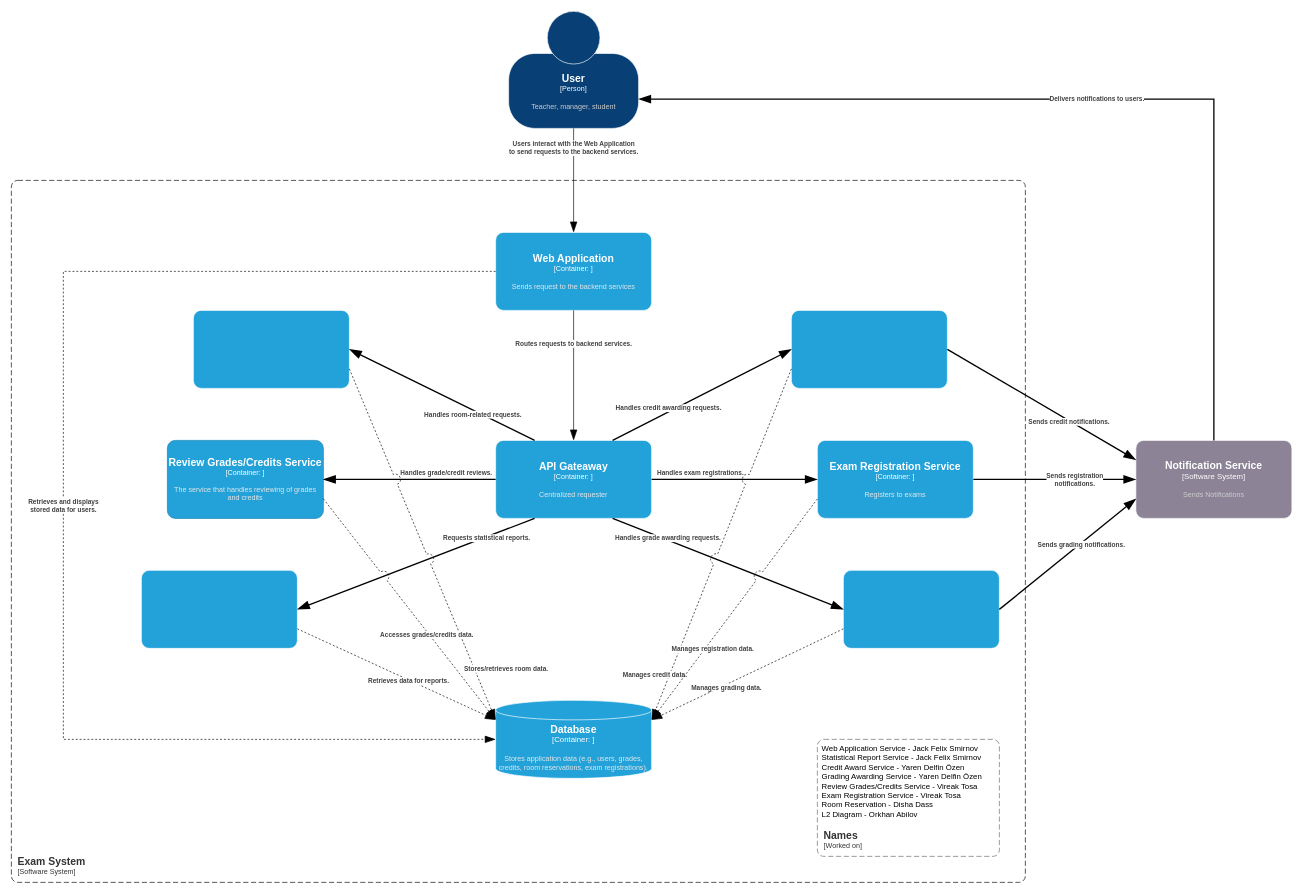
The diagram is 1303 pixels wide and 894 high, and some of its shapes have lost their labels. The box of each missing label's shape, as (x1, y1, x2, y2) in pixels:
Credit Awarding Service [Container: ] Awards credits: (791, 310, 947, 388)
Grading Awarding Service [Container: ] Awards grades: (843, 570, 999, 648)
Room Reservation Service [Container: ] Manages rooms: (193, 310, 349, 388)
Statistical Report Service [Container: ] Provides statistical report: (141, 570, 297, 648)
